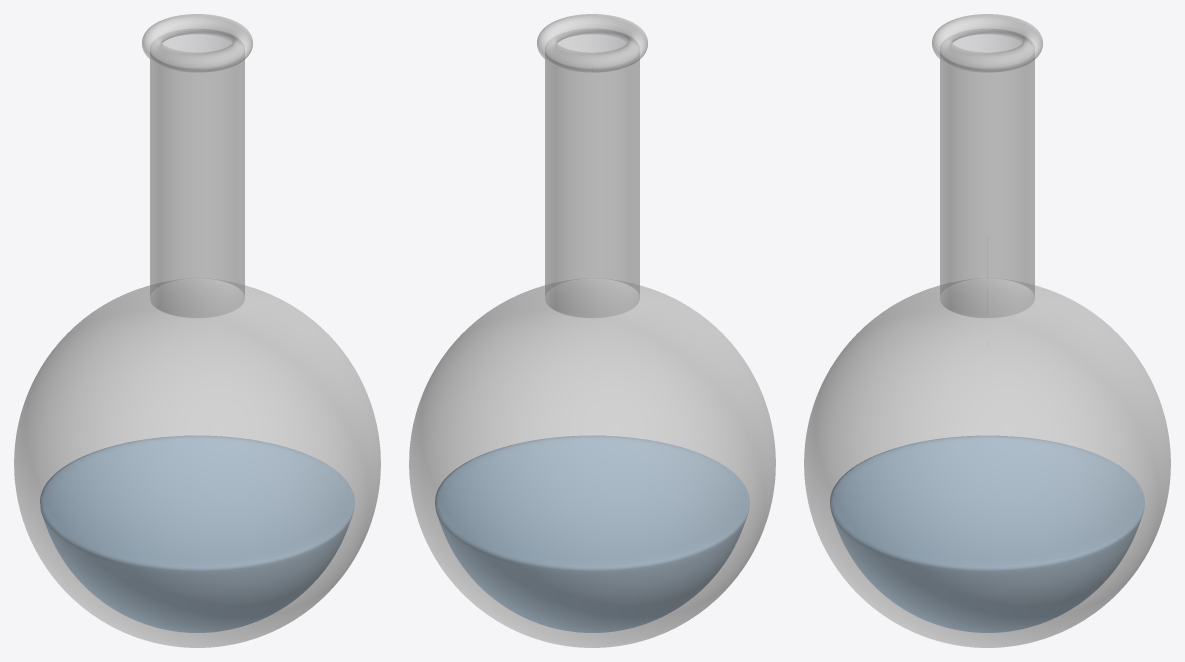
Rendered from flask_water.fbx.
The picture shows the model from 3 angles, left to right: view 1: azimuth 30°, elevation 25°; view 2: azimuth 150°, elevation 25°; view 3: azimuth 270°, elevation 25°; orthographic projection.
Parts seen in each view (by area): view 1: トーラス, トーラス.001; view 2: トーラス, トーラス.001; view 3: トーラス, トーラス.001.
Part boxes in pixels (bbox=[...]): トーラス: bbox=[14, 14, 380, 647]; トーラス.001: bbox=[40, 435, 354, 632]; トーラス: bbox=[409, 14, 775, 647]; トーラス.001: bbox=[435, 435, 749, 632]; トーラス: bbox=[804, 14, 1170, 647]; トーラス.001: bbox=[830, 435, 1144, 632].
Size of the model in its own units: 197 by 355 by 197.
